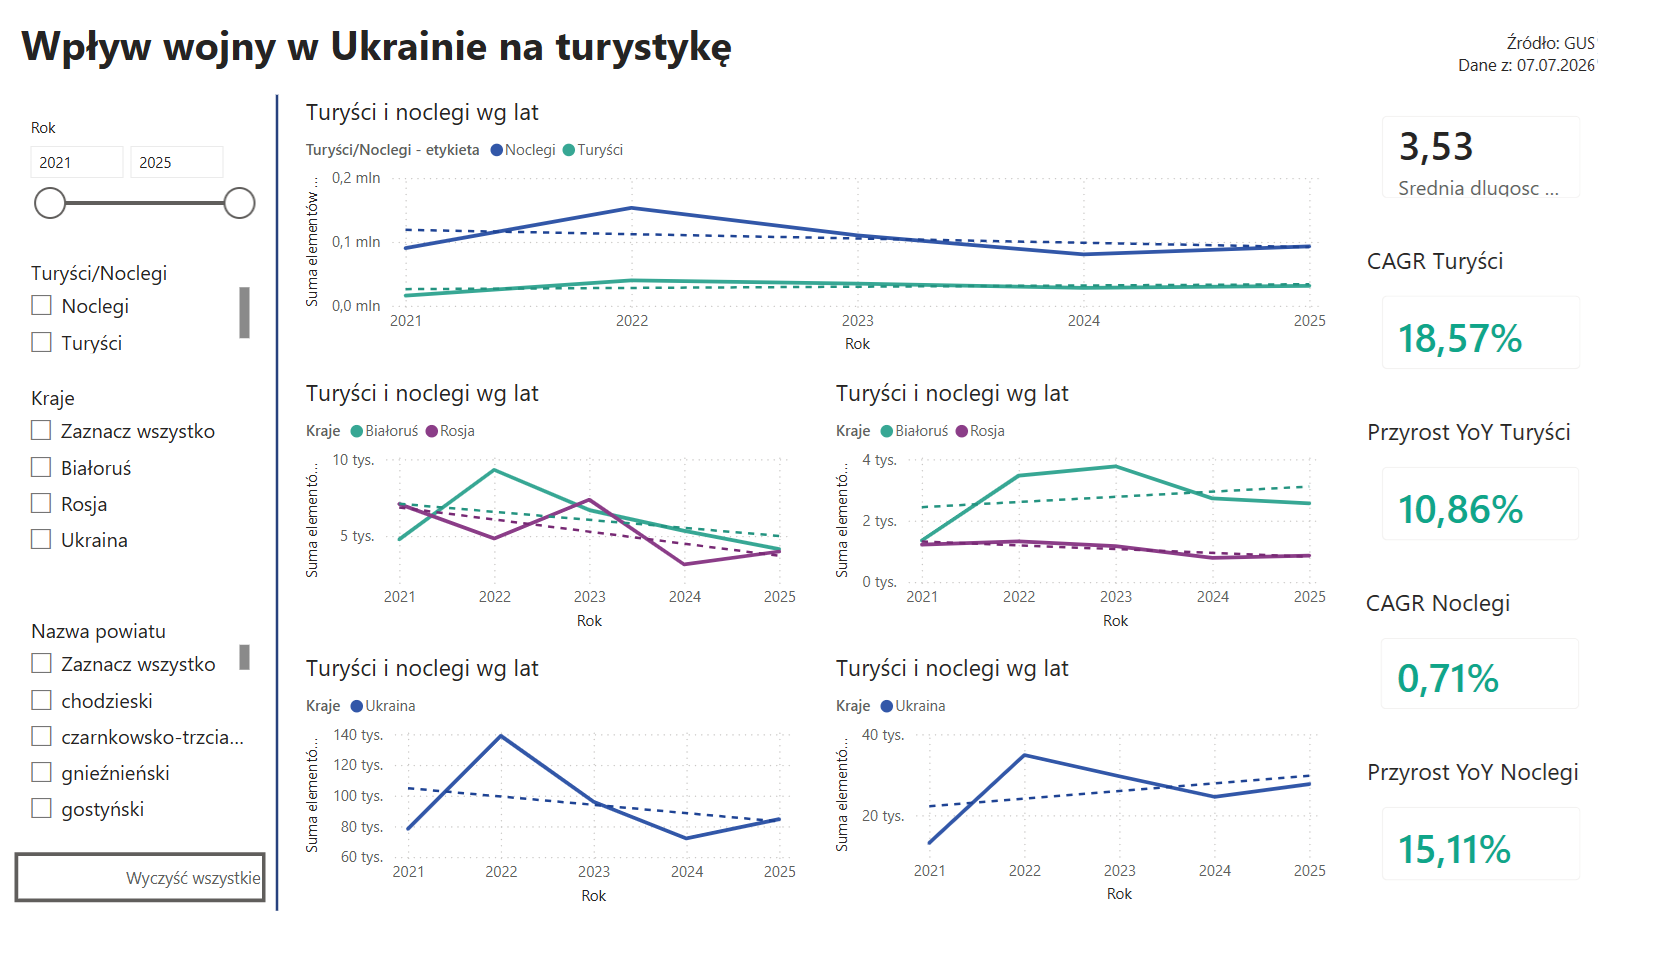

Layout of this report page (visuals, bound fields, positions):
{"tool":"powerbi","page":{"name":"Wpływ wojny w Ukrainie","canvas":[1280,720],"ordinal":6},"visuals":[{"type":"lineChart","title":"Turyści i noclegi Ukraina, Rosja, Białoruś wg lat","fields":{"Category":["DANE_Wielkopolska.Rok"],"Series":["DANE_Wielkopolska.Turyści/Noclegi - etykieta"],"Y":["Sum(DANE_Wielkopolska.Wartosc)"]},"box":[237.8,66.7,826.7,212.2],"z":0},{"type":"slicer","fields":{"Values":["DANE_Wielkopolska.Rok"]},"box":[9.7,79.8,201.3,99.2],"z":1000},{"type":"shape","box":[211.1,67.1,17.5,652.6],"z":2000},{"type":"slicer","fields":{"Values":["DANE_Wielkopolska.Kraje"]},"box":[9.7,292.8,193.6,172.2],"z":3000},{"type":"slicer","fields":{"Values":["DANE_Wielkopolska.Nazwa powiatu"]},"box":[9.7,479,193.6,179.9],"z":4000},{"type":"textbox","box":[9.7,0,792.7,59.3],"z":5000},{"type":"slicer","fields":{"Values":["DANE_Wielkopolska.Turyści/Noclegi - etykieta"]},"box":[9.7,193.6,193.6,98.2],"z":6000},{"type":"actionButton","box":[9.7,673.1,201.3,39.9],"z":7000},{"type":"cardVisual","title":"Średnia długość noclegu","fields":{"Data":["DANE_Wielkopolska.Srednia dlugosc noclegu"]},"box":[1087.4,79.8,192.6,119.6],"z":8000},{"type":"cardVisual","title":"CAGR Turyści","fields":{"Data":["DANE_Wielkopolska.CAGR"]},"box":[1087.4,219.8,192.6,117.7],"z":9000},{"type":"cardVisual","title":"CAGR Noclegi","fields":{"Data":["DANE_Wielkopolska.CAGR"]},"box":[1087.4,478.5,192.6,116.7],"z":10000},{"type":"cardVisual","title":"Przyrost YoY Turyści","fields":{"Data":["DANE_Wielkopolska.Przyrost_YoY"]},"box":[1087.4,347.2,192.6,117.7],"z":11000},{"type":"cardVisual","title":"Przyrost YoY Noclegi","fields":{"Data":["DANE_Wielkopolska.Przyrost_YoY"]},"box":[1087.4,595.3,192.6,117.7],"z":12000},{"type":"textbox","box":[1122.1,10.7,157.6,56.4],"z":13000},{"type":"lineChart","title":"Noclegi wg lat","fields":{"Category":["DANE_Wielkopolska.Rok"],"Series":["DANE_Wielkopolska.Kraje"],"Y":["Sum(DANE_Wielkopolska.Wartosc)"]},"box":[237.8,292.2,402.2,207.8],"z":14000},{"type":"lineChart","title":"Noclegi wg lat","fields":{"Category":["DANE_Wielkopolska.Rok"],"Series":["DANE_Wielkopolska.Kraje"],"Y":["Sum(DANE_Wielkopolska.Wartosc)"]},"box":[237.8,512.2,402.2,207.8],"z":15000},{"type":"lineChart","title":"Turyści wg lat","fields":{"Category":["DANE_Wielkopolska.Rok"],"Series":["DANE_Wielkopolska.Kraje"],"Y":["Sum(DANE_Wielkopolska.Wartosc)"]},"box":[662.2,292.2,402.2,207.8],"z":16000},{"type":"lineChart","title":"Turyści wg lat","fields":{"Category":["DANE_Wielkopolska.Rok"],"Series":["DANE_Wielkopolska.Kraje"],"Y":["Sum(DANE_Wielkopolska.Wartosc)"]},"box":[662.2,512.2,402.2,206.7],"z":17000},{"type":"actionButton","box":[991.1,10.7,148.8,56.4],"z":18000}]}

Visuals, with their boxes in screenshot pixels (x1, y1, x2, y2), scaled from the page's 1280x720 canvas onto the 1667x957 screenshot:
"Turyści i noclegi Ukraina, Rosja, Białoruś wg lat" lineChart: 310,89,1386,371
slicer - DANE_Wielkopolska.Rok: 13,106,275,238
shape: 275,89,298,956
slicer - DANE_Wielkopolska.Kraje: 13,389,265,618
slicer - DANE_Wielkopolska.Nazwa powiatu: 13,637,265,876
textbox: 13,0,1045,79
slicer - DANE_Wielkopolska.Turyści/Noclegi - etykieta: 13,257,265,388
actionButton: 13,895,275,948
"Średnia długość noclegu" cardVisual: 1416,106,1666,265
"CAGR Turyści" cardVisual: 1416,292,1666,449
"CAGR Noclegi" cardVisual: 1416,636,1666,791
"Przyrost YoY Turyści" cardVisual: 1416,461,1666,618
"Przyrost YoY Noclegi" cardVisual: 1416,791,1666,948
textbox: 1461,14,1666,89
"Noclegi wg lat" lineChart: 310,388,834,665
"Noclegi wg lat" lineChart: 310,681,834,956
"Turyści wg lat" lineChart: 862,388,1386,665
"Turyści wg lat" lineChart: 862,681,1386,956
actionButton: 1291,14,1485,89
